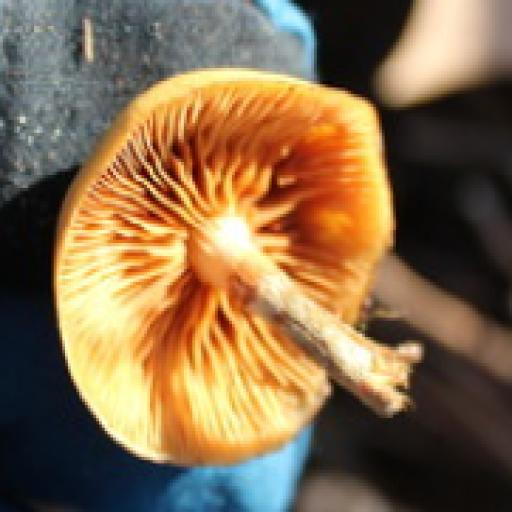mushroom: (44, 66, 423, 471)
